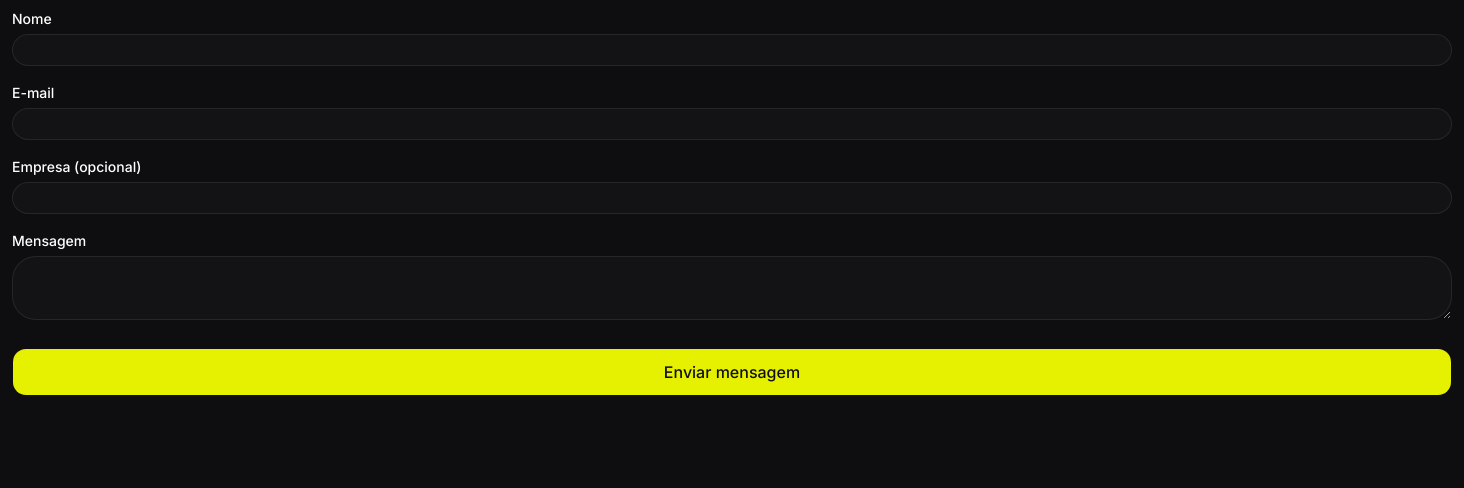
Test: ContactForm › shows a role=alert error per empty required field on submit
Click the button "Enviar mensagem" at point(732, 372), box [12, 348, 1452, 396]
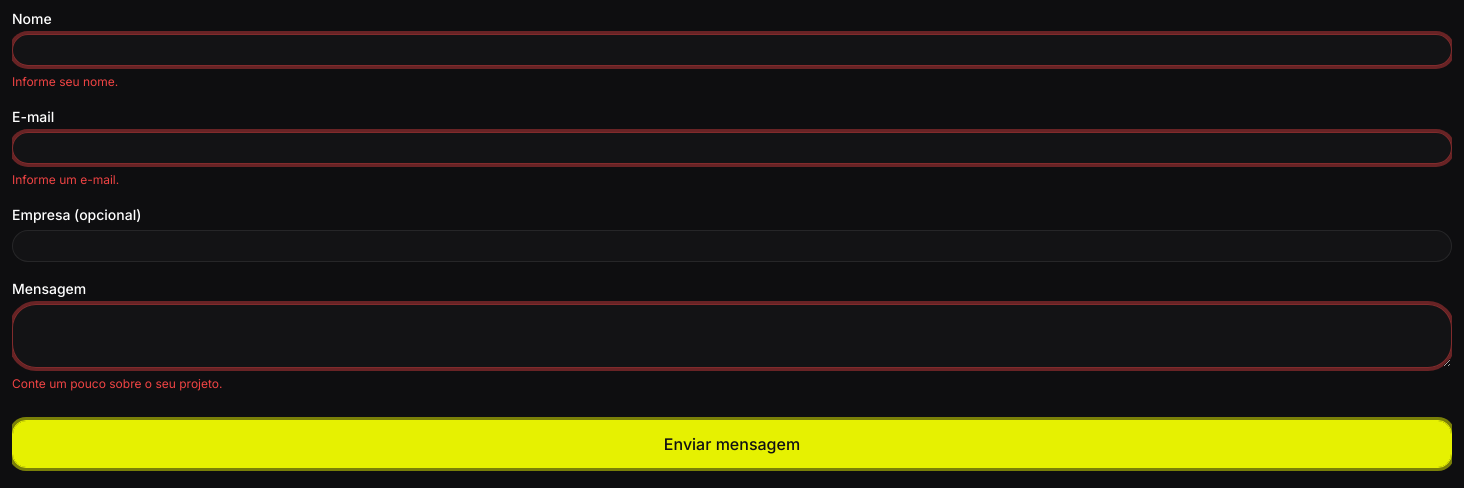
expect the number of messages is 3: met, box [12, 74, 118, 89]; [12, 172, 119, 187]; [12, 376, 222, 391]
expect the text "Informe seu nome." is shown: met, box [12, 74, 118, 89]
expect the text "Informe um e-mail." is shown: met, box [12, 172, 119, 187]
